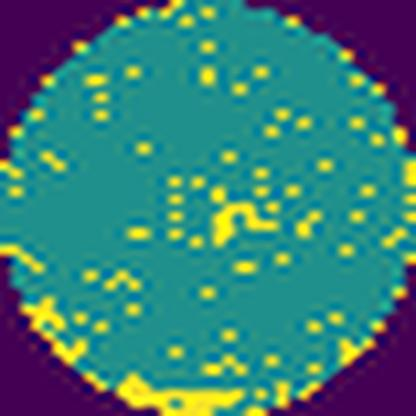Edge-Loc: (113, 374, 247, 416)
